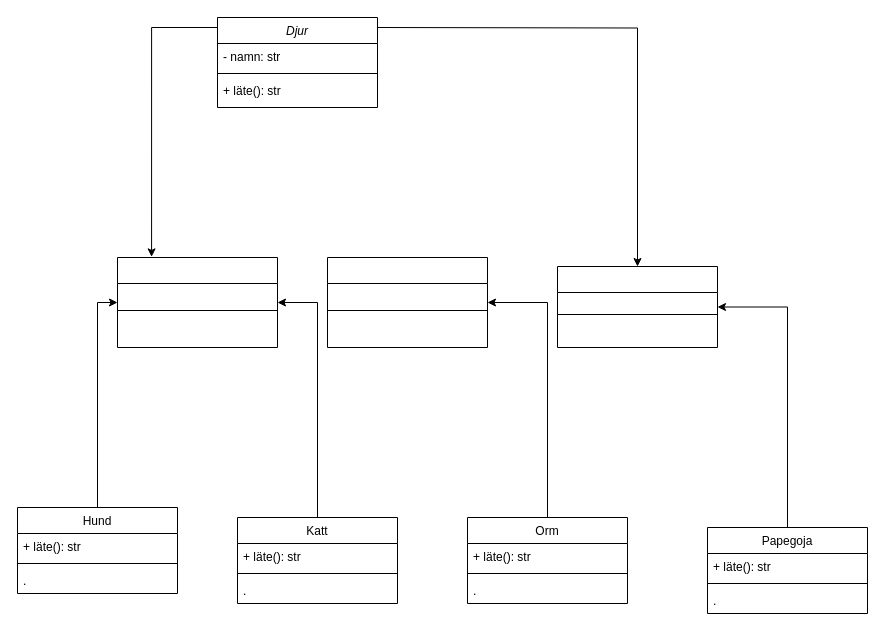
The diagram is 885 pixels wide and 634 high, and some of its shapes have lost their labels. The shapes that lost their labels are listed below. From the top down, each one's centre as x and y in pixels, then its label:
At point (197, 302): "Däggdjur".
At point (407, 302): "Kräldjur".
At point (637, 307): "Fågel".
